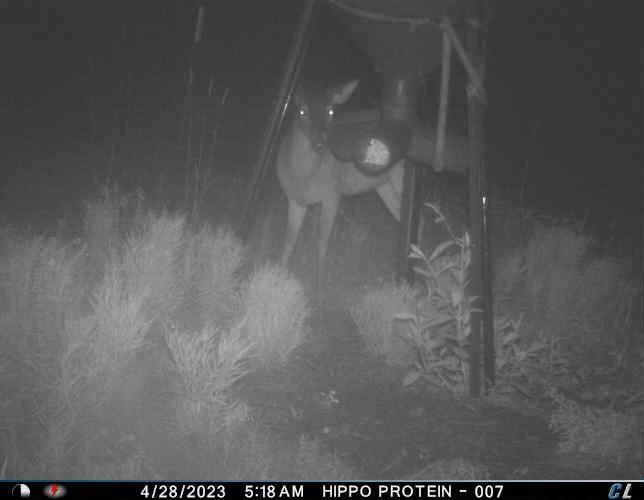Deer: (271, 74, 418, 278)
